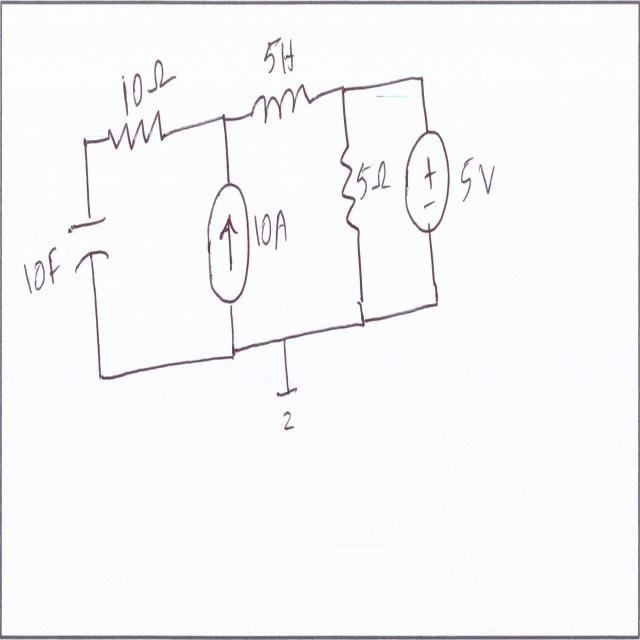capacitor: (62, 207, 115, 288)
current_source: (202, 177, 254, 320)
ground: (272, 373, 304, 448)
inductor: (248, 78, 316, 129)
resistor: (335, 135, 365, 242), (107, 108, 167, 156)
voltage_source: (401, 122, 454, 240)
